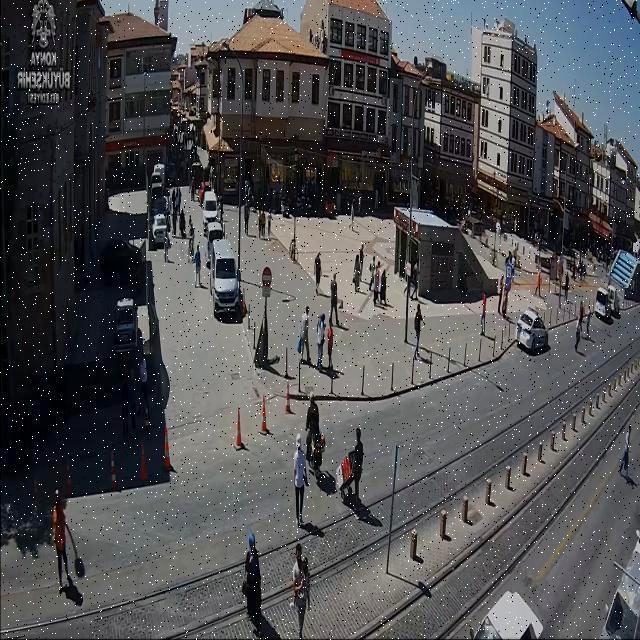Car: (515, 308, 551, 354)
Van: (210, 237, 240, 313)
